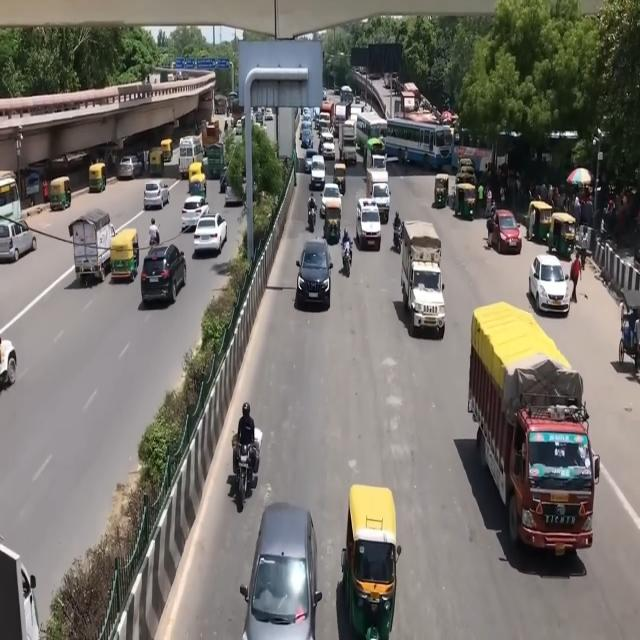auto: (332, 456, 412, 640)
bike-auto: (229, 388, 262, 533), (340, 228, 355, 283), (392, 210, 406, 255), (307, 195, 320, 233)
